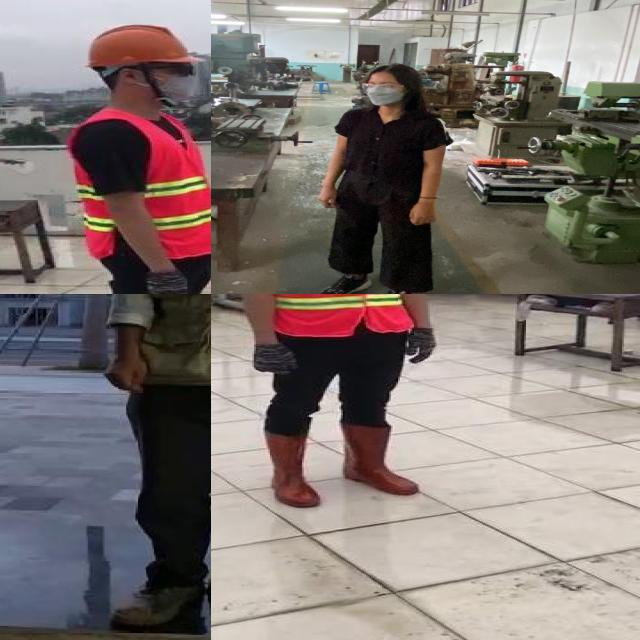boots: (336, 420, 434, 498), (260, 428, 319, 512)
face_mask: (140, 64, 199, 101), (355, 80, 408, 105)
glasses: (164, 60, 200, 80), (353, 82, 409, 92)
hand_glove: (240, 343, 298, 377), (144, 268, 194, 294), (412, 328, 437, 368)
hand_noglove: (96, 341, 153, 397), (403, 203, 442, 227), (312, 186, 340, 206)
head_helmet: (84, 22, 196, 66)
head_nohelmet: (361, 61, 417, 81)
person: (221, 294, 452, 508), (57, 21, 211, 294), (96, 294, 211, 631), (307, 60, 456, 294)
shoes: (109, 575, 205, 627), (313, 270, 379, 294), (369, 285, 423, 294)
vest: (62, 108, 211, 256), (259, 294, 413, 336)
